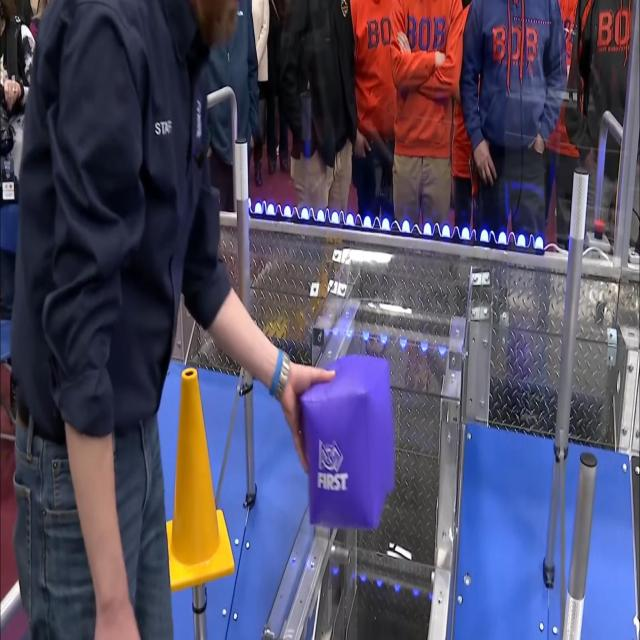frc_cone: (157, 359, 235, 598)
frc_cube: (301, 356, 397, 524)
